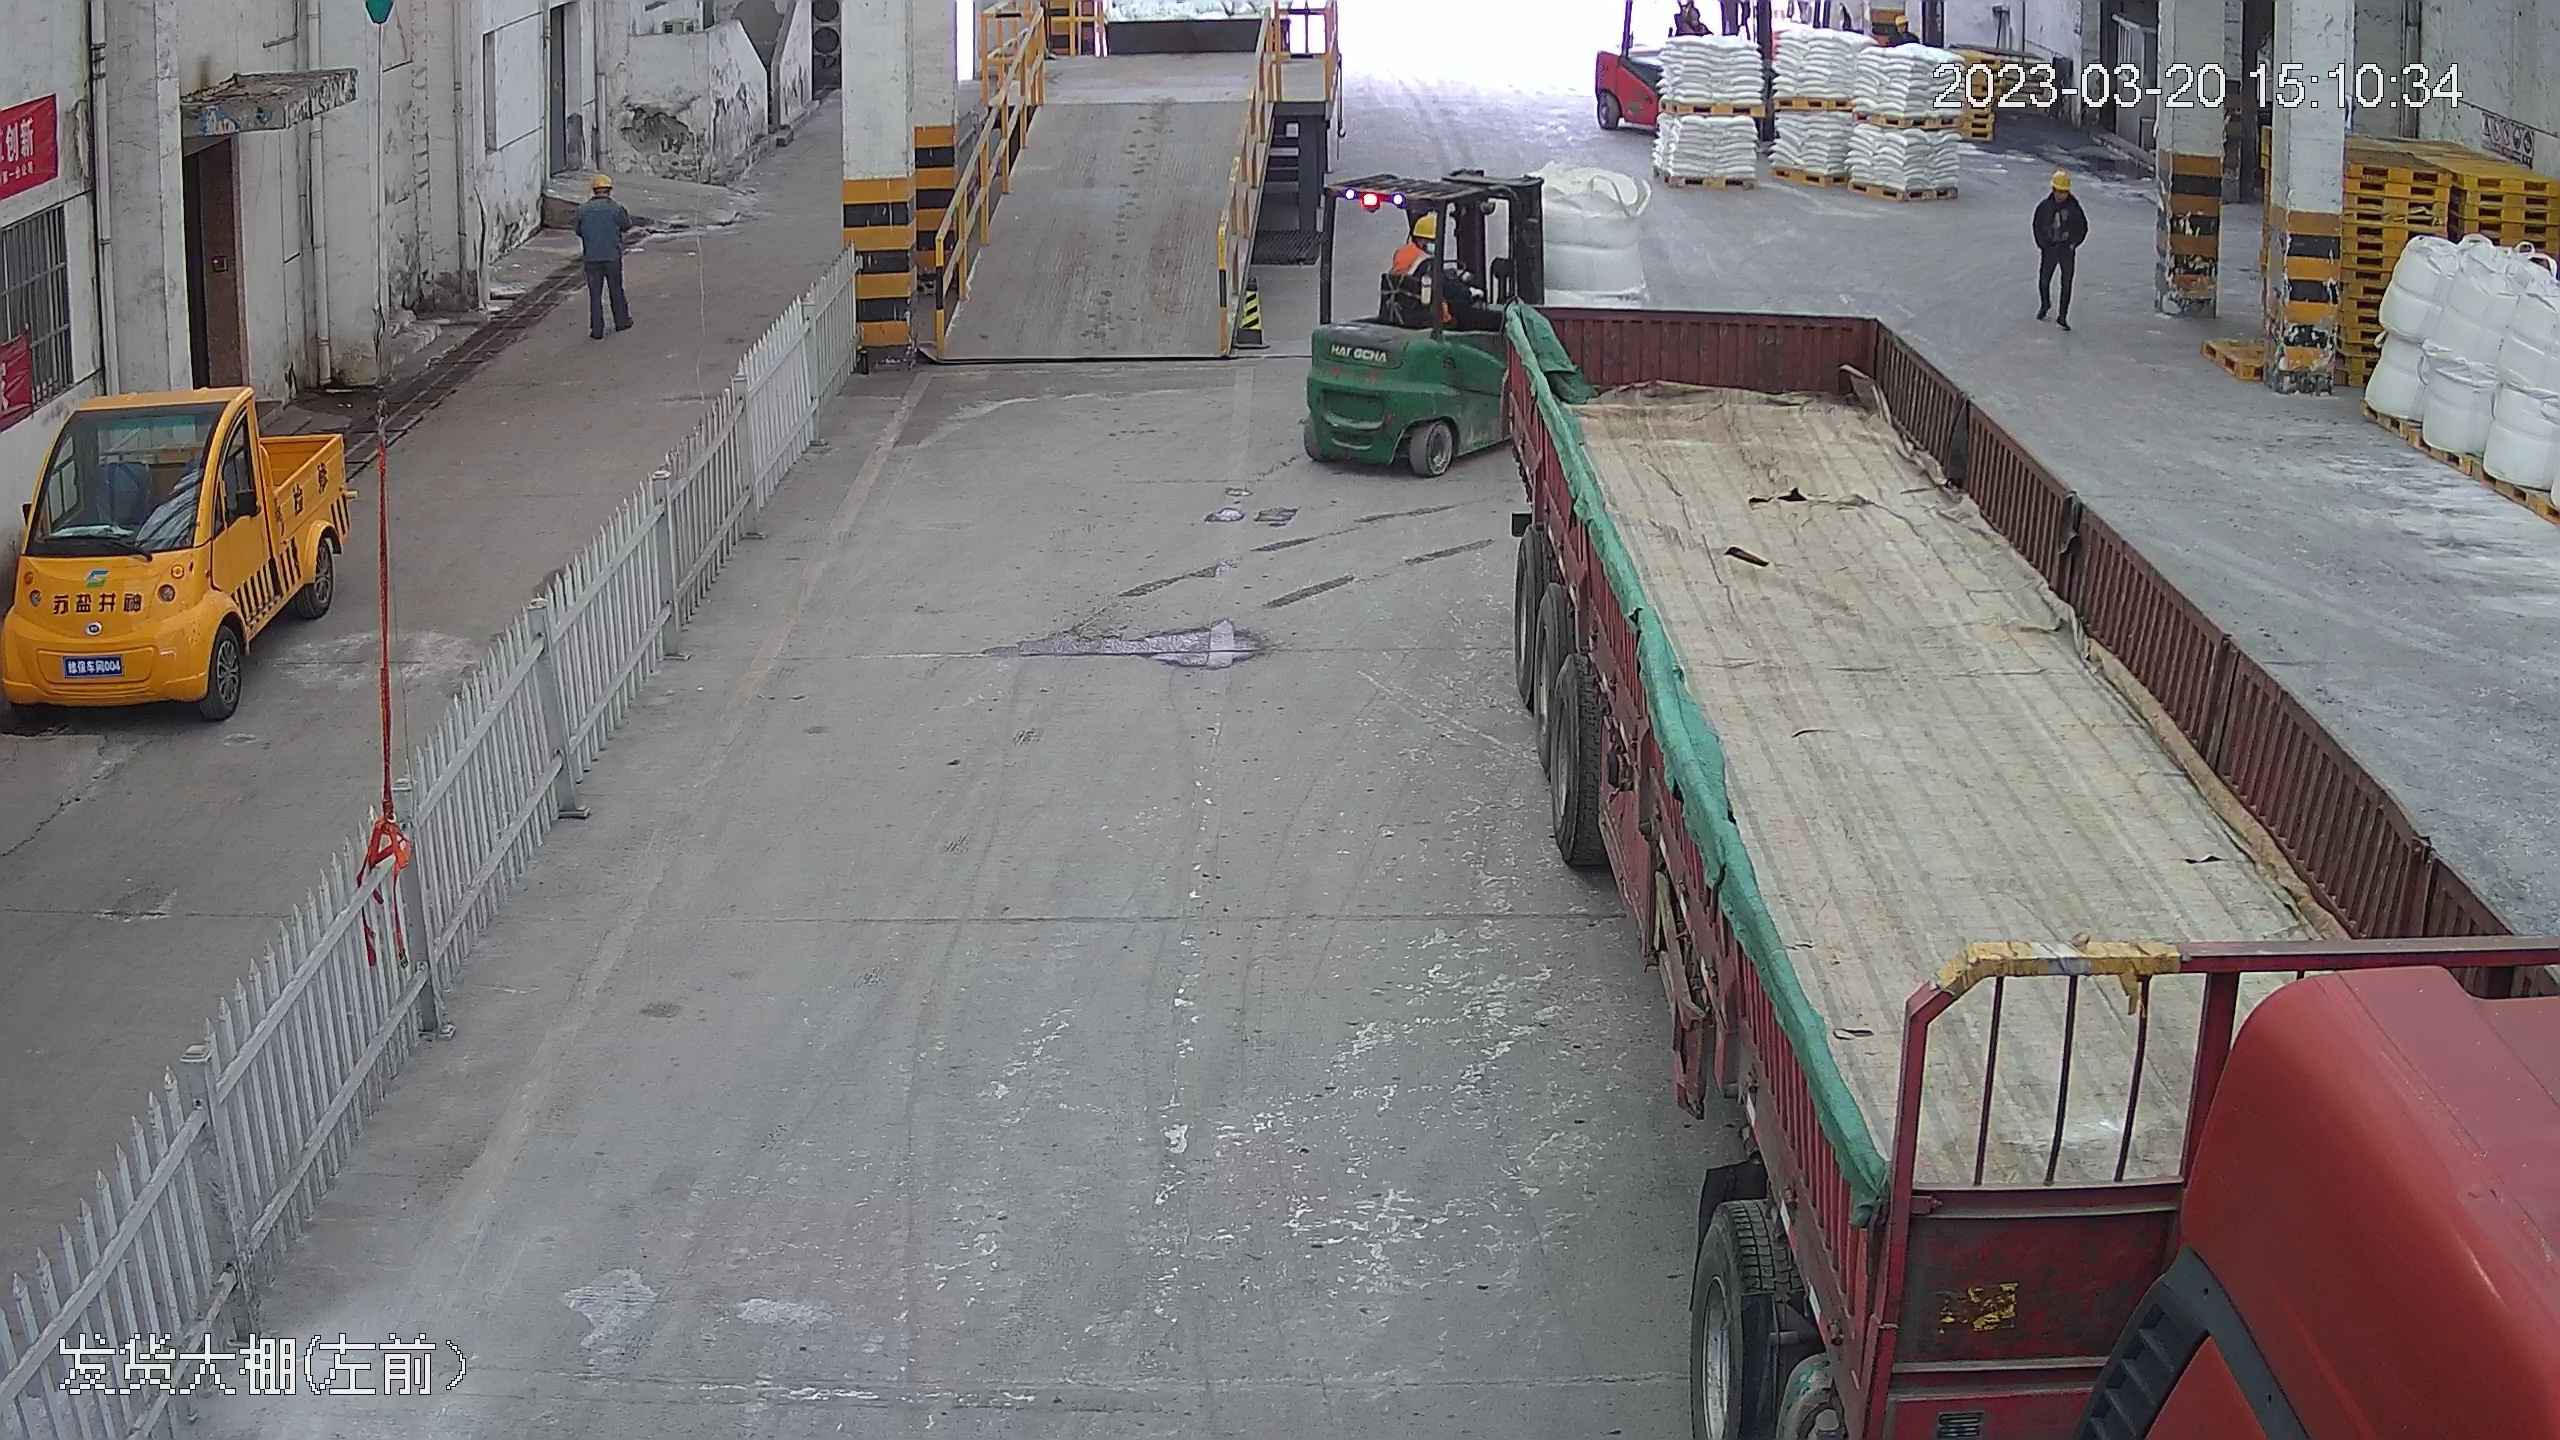head: (1395, 211, 1446, 277), (577, 170, 629, 226), (2034, 166, 2086, 221)
helmet: (1412, 209, 1441, 234), (587, 171, 615, 194), (2049, 167, 2076, 189)
people: (565, 166, 640, 341), (2024, 165, 2094, 332)
truck: (1506, 274, 2560, 1432)
